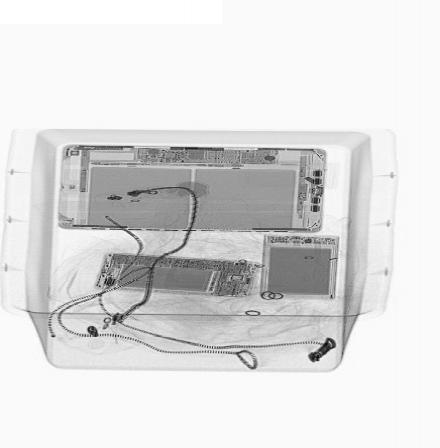Powerbank: (258, 232, 343, 303)
